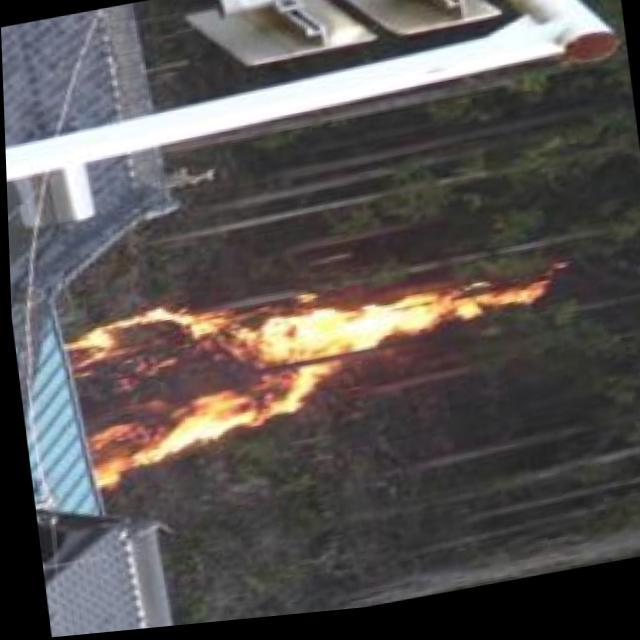fire: (55, 247, 545, 486)
